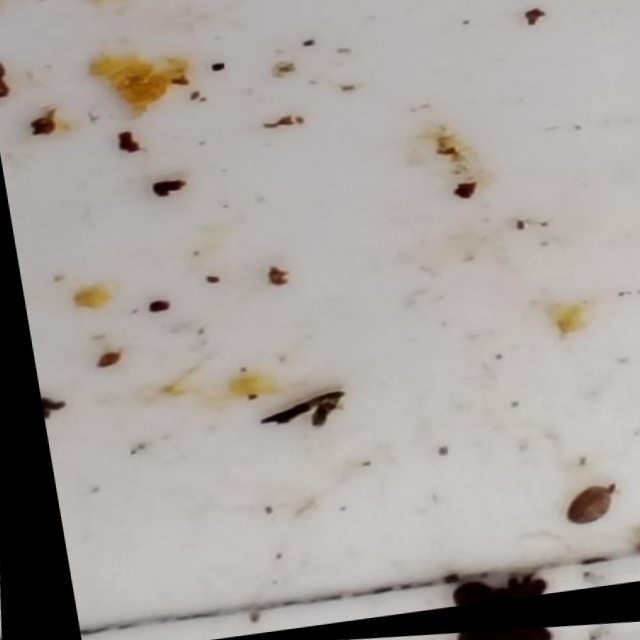varroa: (439, 572, 540, 611)
